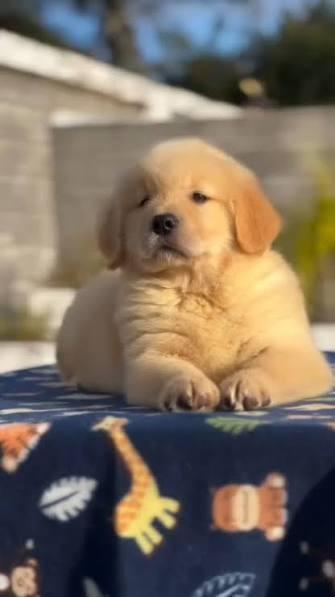puppy-dog: (57, 132, 335, 414)
